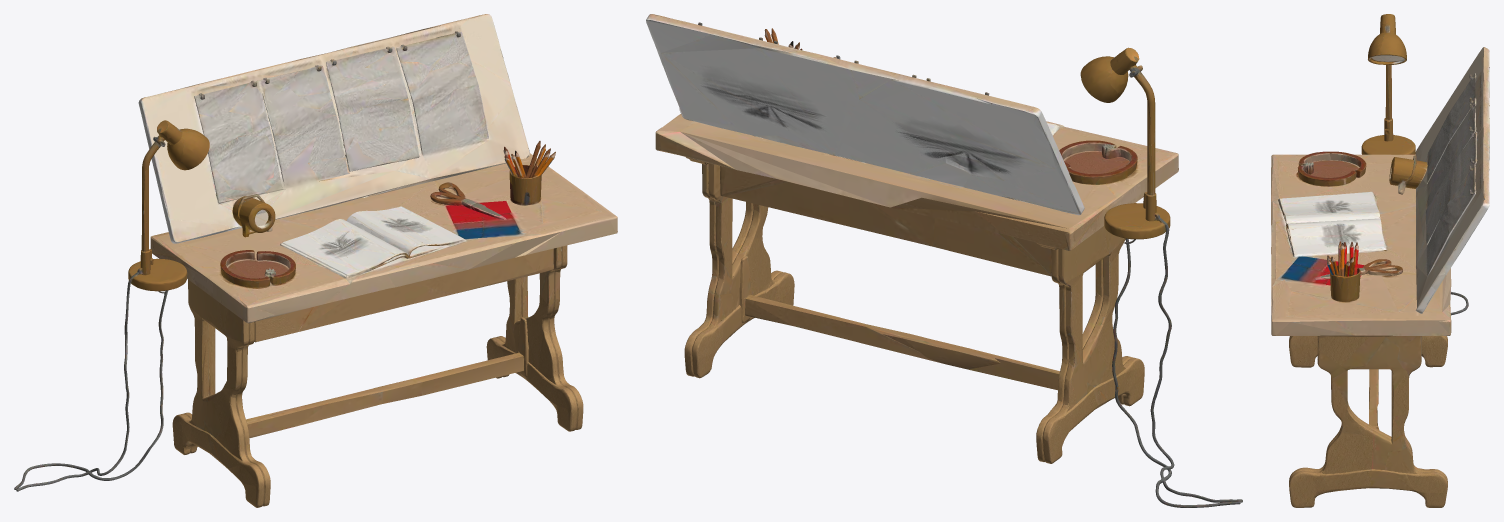
Rendered from sketchTable.glb.
3 renders of one model, left to right at view 1: azimuth 30°, elevation 25°; view 2: azimuth 150°, elevation 25°; view 3: azimuth 270°, elevation 25°, orthographic. The views are drawn at different scales.
Size of the model in its own units: 1.9 by 1.27 by 0.7599.
Materials: 1 (1 with a texture image).
